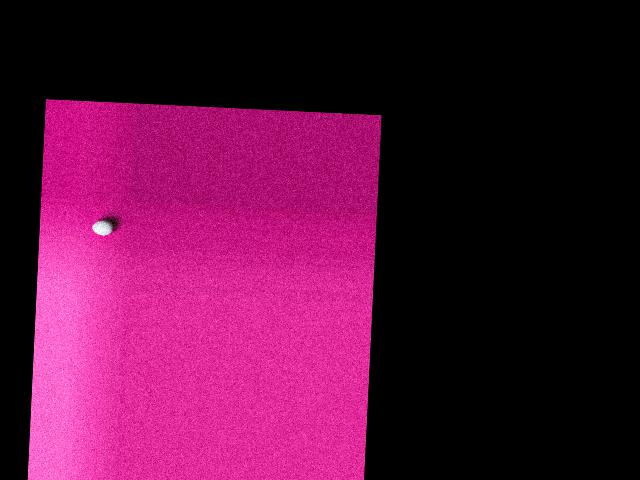egg: (92, 220, 113, 236)
